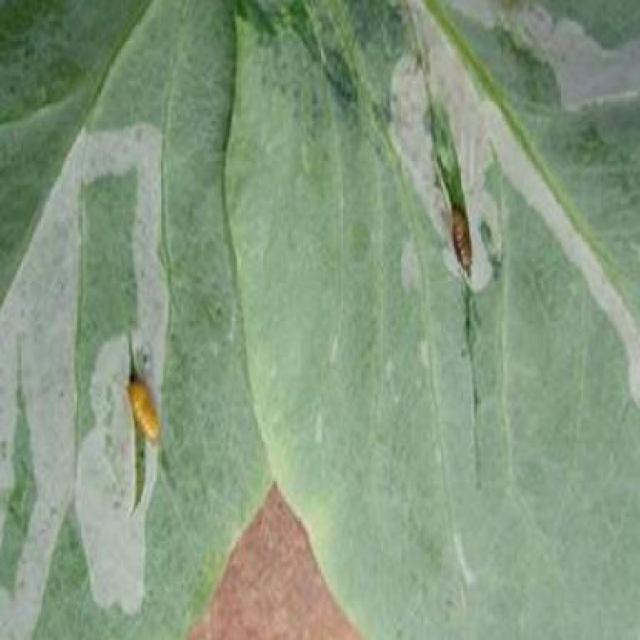whorl-maggot: (118, 369, 170, 453), (440, 196, 483, 284)
